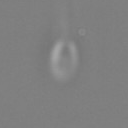normal: (55, 1, 77, 39)
